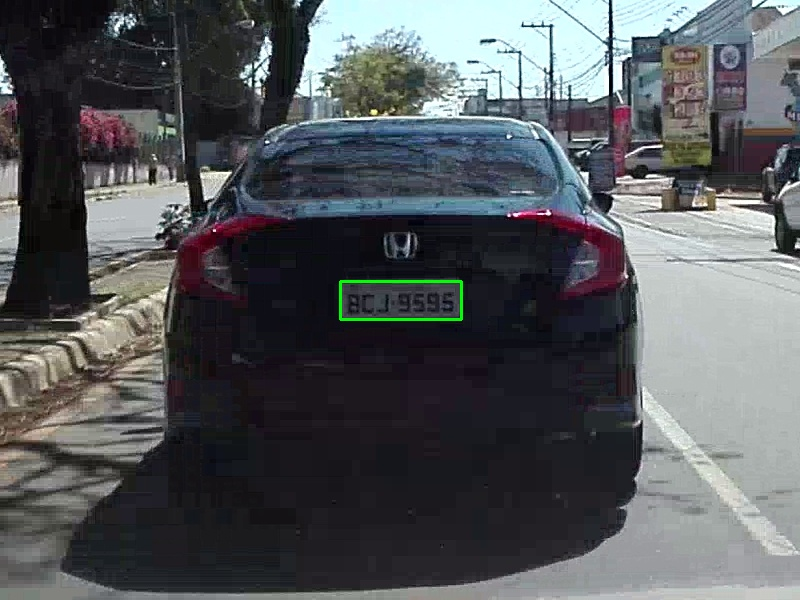placa: (340, 281, 461, 319)
